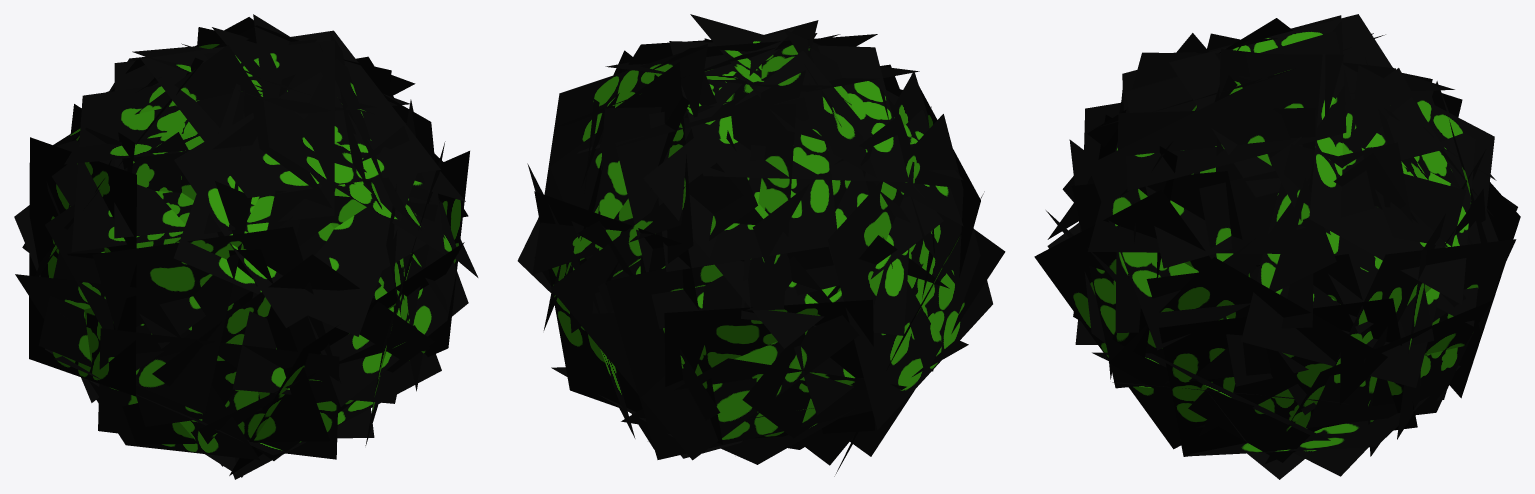
Rendered from up_normal_foliage_2.glb.
3 views of the same model, side by side, from view 1: azimuth 30°, elevation 25°; view 2: azimuth 150°, elevation 25°; view 3: azimuth 270°, elevation 25° (orthographic). The views are drawn at different scales.
Visible parts, largest first — view 1: Plane.127, Plane.134, Plane.152, Plane.128, Plane.079, Plane.126, Plane.077, Plane.123, Plane.135, Plane.156, Plane.136, Plane.137 (+24 smaller); view 2: Plane.128, Plane.081, Plane.080, Plane.161, Plane.139, Plane.153, Plane.145, Plane.129, Plane.125, Plane.160, Plane.082, Plane.146 (+24 smaller); view 3: Plane.133, Plane.144, Plane.116, Plane.151, Plane.076, Plane.145, Plane.143, Plane.124, Plane.148, Plane.150, Plane.075, Plane.149 (+24 smaller).
Part boxes in pixels (<box>): Plane.127: <box>92,226,341,426</box>; Plane.134: <box>141,30,440,197</box>; Plane.152: <box>174,83,416,336</box>; Plane.128: <box>29,137,136,396</box>; Plane.079: <box>38,127,251,414</box>; Plane.126: <box>71,85,245,252</box>; Plane.077: <box>114,40,334,238</box>; Plane.123: <box>174,72,426,327</box>; Plane.135: <box>52,45,337,348</box>; Plane.156: <box>152,254,433,460</box>; Plane.136: <box>277,126,468,406</box>; Plane.137: <box>67,249,329,444</box>; Plane.128: <box>828,114,992,429</box>; Plane.081: <box>550,163,858,460</box>; Plane.080: <box>643,50,943,348</box>; Plane.161: <box>592,104,796,313</box>; Plane.139: <box>605,247,872,459</box>; Plane.153: <box>669,41,909,182</box>; Plane.145: <box>532,44,707,274</box>; Plane.129: <box>664,299,874,438</box>; Plane.125: <box>649,87,837,271</box>; Plane.160: <box>534,191,722,444</box>; Plane.082: <box>742,235,949,465</box>; Plane.146: <box>615,97,839,328</box>; Plane.133: <box>1088,76,1336,350</box>; Plane.144: <box>1109,257,1387,462</box>; Plane.116: <box>1241,144,1466,387</box>; Plane.151: <box>1034,190,1299,449</box>; Plane.076: <box>1088,52,1343,253</box>; Plane.145: <box>1309,53,1475,304</box>; Plane.143: <box>1306,239,1516,427</box>; Plane.124: <box>1169,14,1444,197</box>; Plane.148: <box>1159,298,1417,456</box>; Plane.150: <box>1125,31,1374,268</box>; Plane.075: <box>1072,171,1271,388</box>; Plane.149: <box>1199,142,1434,386</box>.
Bounding box in the file's own units: 2.7 × 2.73 × 2.82.
1 material, 1 textured.
